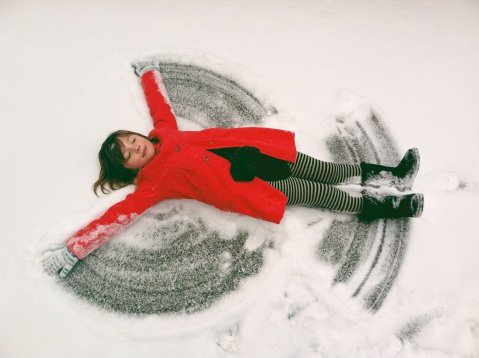deitado: (34, 53, 440, 303)
